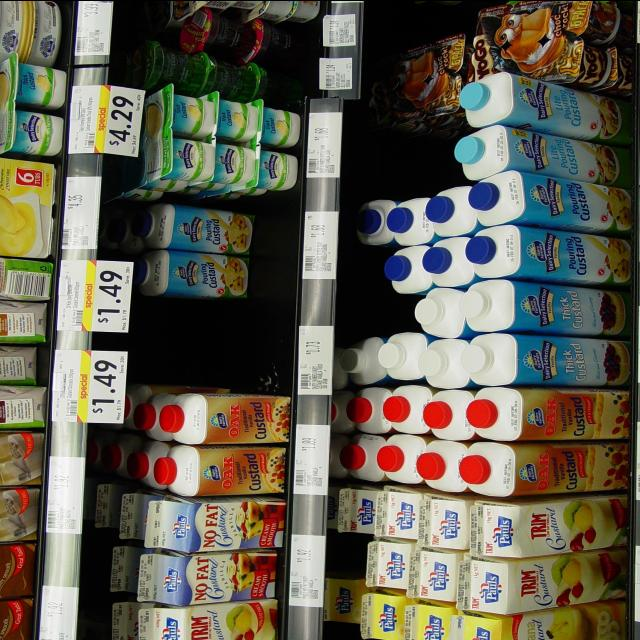empty_space: (134, 299, 293, 381), (253, 198, 299, 294), (340, 248, 388, 332), (365, 142, 451, 188), (275, 27, 317, 92)
